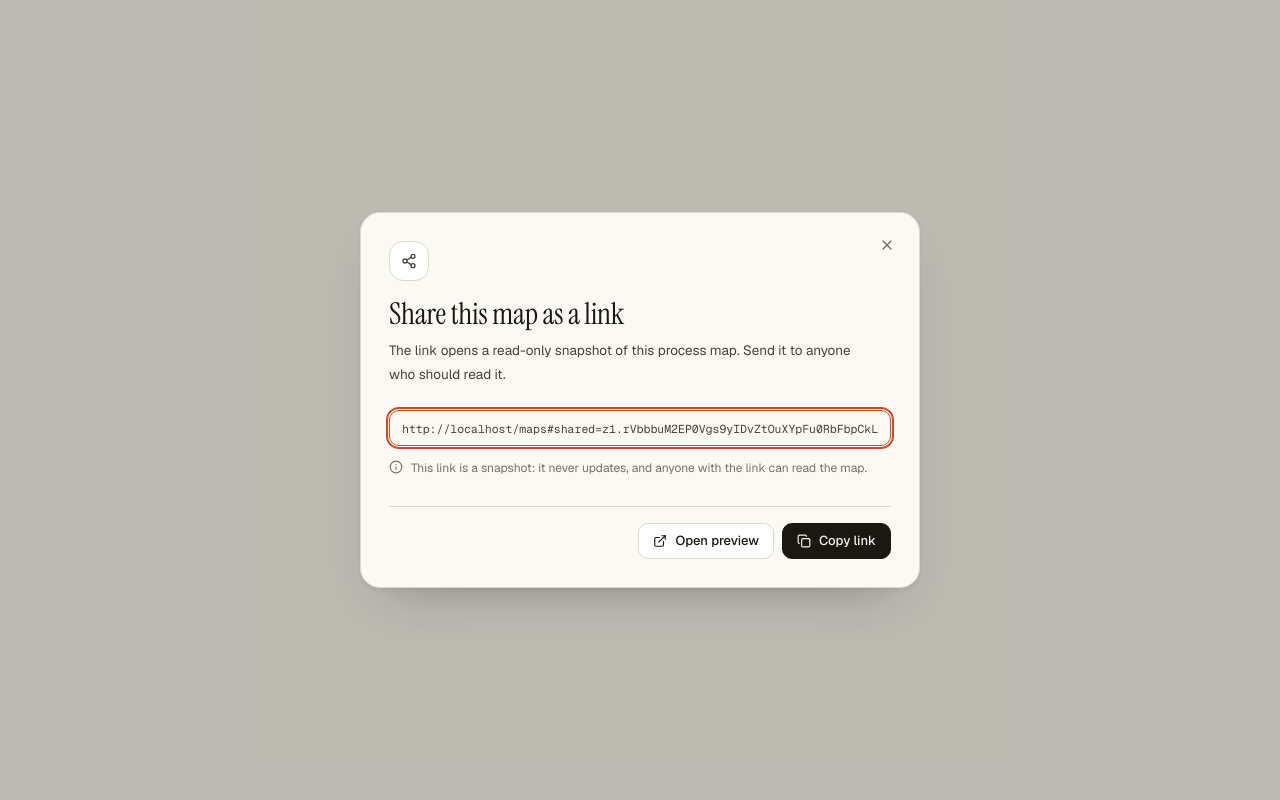
Test: share dialog › reports a clipboard failure instead of failing silently
Expected: the field named "Share link" is shown, 389,410 -> 891,446
Click the button "Copy link".
click(836, 541)  # box 782,523 -> 891,559
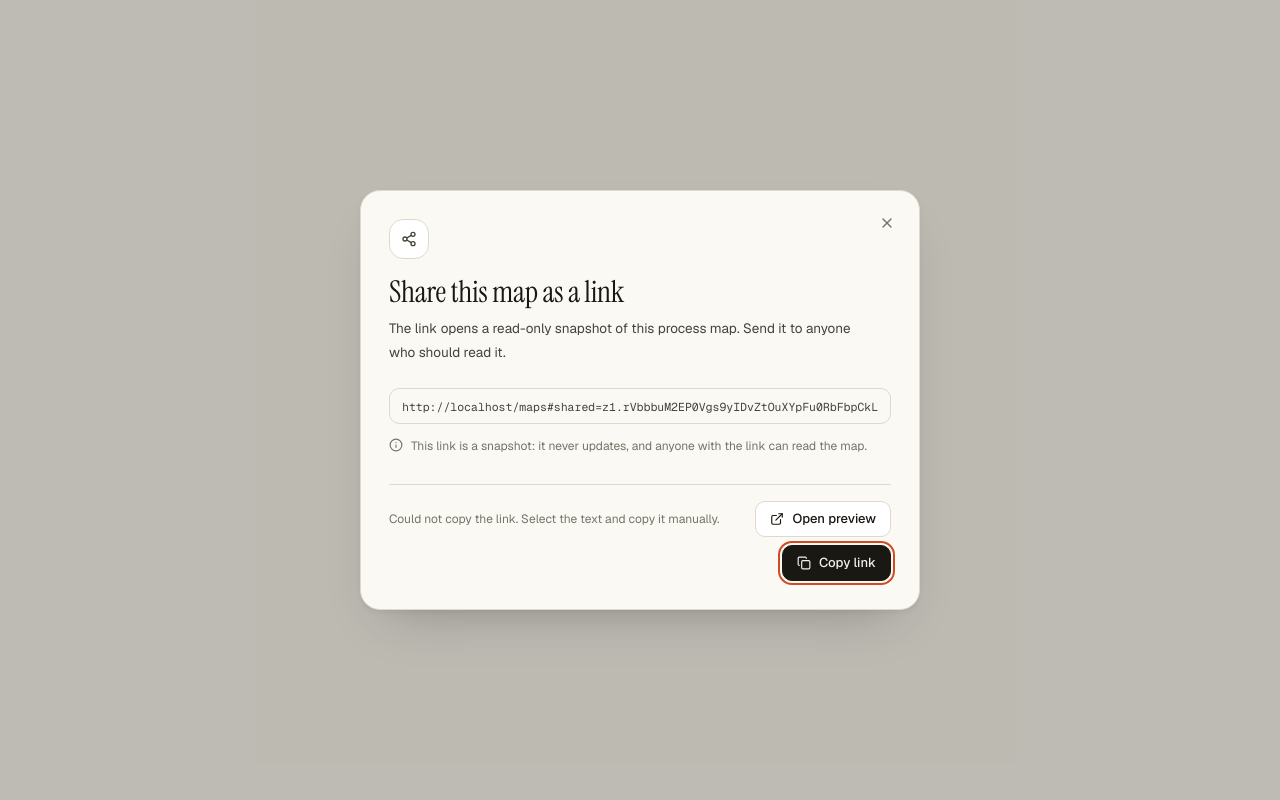
Expected: the message shows "Could not copy the link", 389,511 -> 720,527
